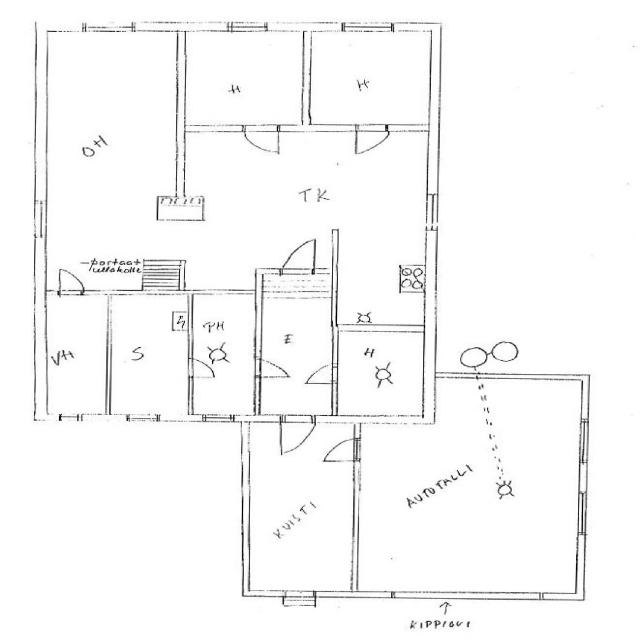door: (281, 414, 315, 448), (244, 125, 278, 157), (282, 244, 314, 274), (356, 125, 388, 155), (323, 438, 358, 461), (305, 364, 338, 384), (255, 358, 287, 377), (188, 358, 218, 377), (60, 272, 84, 295)
